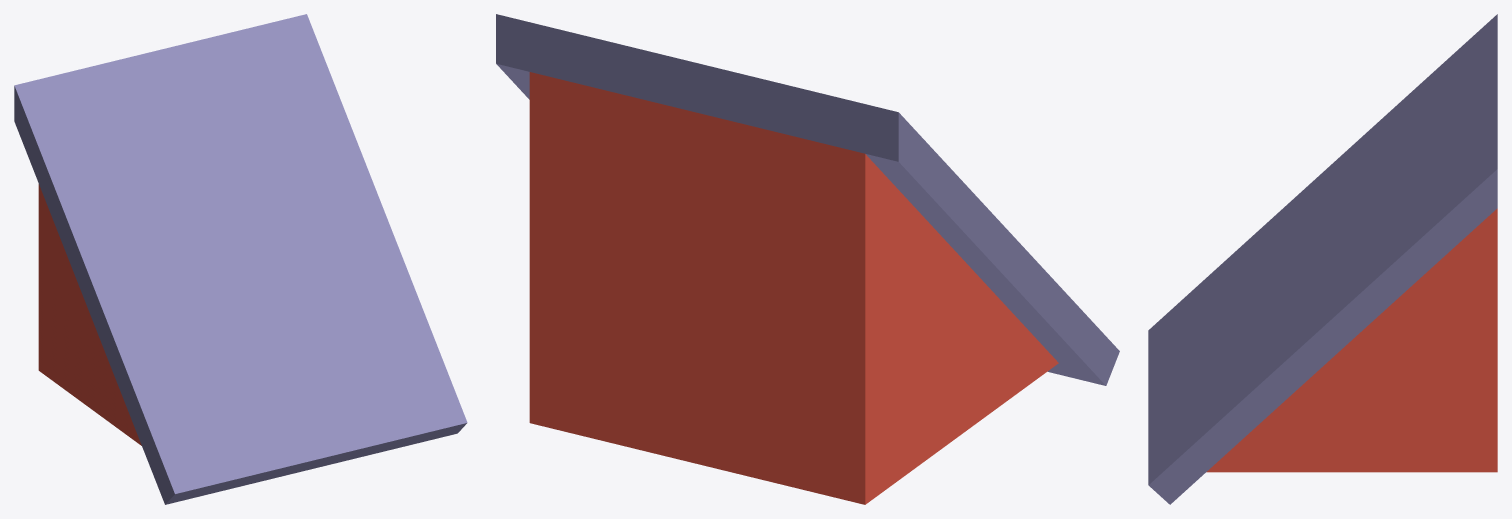
The model's file is Ramp.fbx.
3 views of the same model, side by side, from view 1: azimuth 30°, elevation 25°; view 2: azimuth 150°, elevation 25°; view 3: azimuth 270°, elevation 25° (orthographic). The views are drawn at different scales.
Visible parts, largest first — view 1: roof_halfLarge; view 2: roof_halfLarge; view 3: roof_halfLarge.
Part boxes in pixels (x1=…): roof_halfLarge: x1=14, y1=14, x2=467, y2=504; roof_halfLarge: x1=496, y1=14, x2=1119, y2=504; roof_halfLarge: x1=1148, y1=14, x2=1497, y2=504.
Size of the model in its own units: 12 by 12.12 by 11.41.
